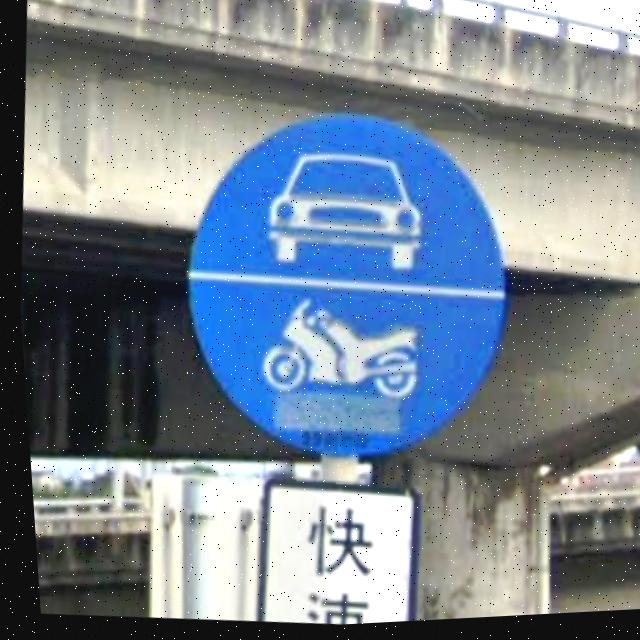carmotorcycle: (153, 89, 532, 484)
